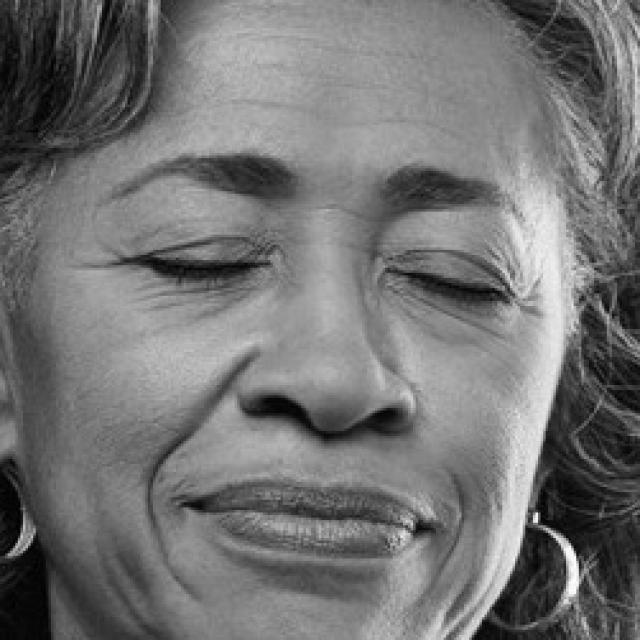real: (32, 30, 562, 640), (122, 196, 541, 324)
